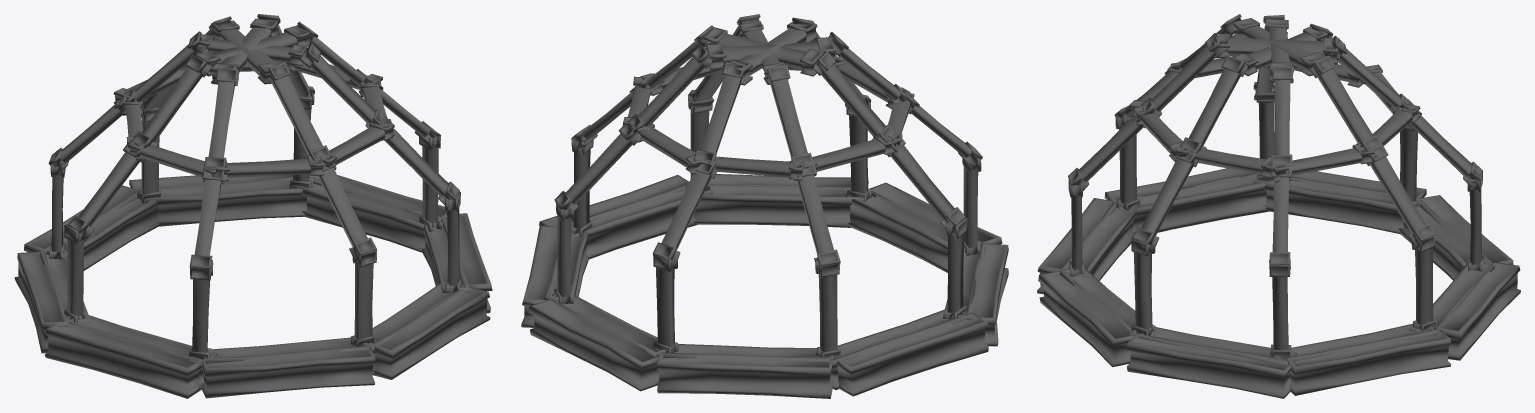
File: Practiceplace_3.fbx
3 renders of one model, left to right at view 1: azimuth 30°, elevation 25°; view 2: azimuth 150°, elevation 25°; view 3: azimuth 270°, elevation 25°, orthographic. The views are drawn at different scales.
Parts seen in each view (by area): view 1: ed_codhouse02; view 2: ed_codhouse02; view 3: ed_codhouse02.
Part boxes in pixels (x1,y1,x2,y2): ed_codhouse02: (14,14,492,398); ed_codhouse02: (521,14,1008,398); ed_codhouse02: (1037,14,1520,398).
Bounding box in the file's own units: 4910 × 2749 × 4743.
